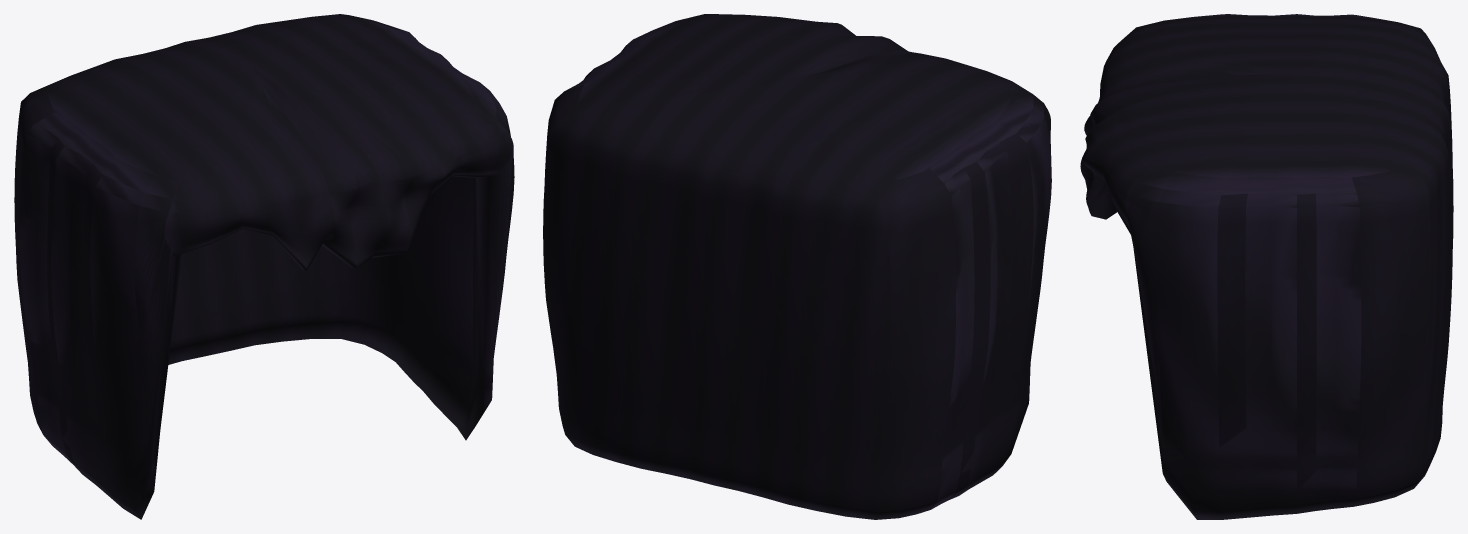
File: DemonHair.glb
3 renders of one model, left to right at view 1: azimuth 30°, elevation 25°; view 2: azimuth 150°, elevation 25°; view 3: azimuth 270°, elevation 25°, orthographic. The views are drawn at different scales.
Parts seen in each view (by area): view 1: DemonHair; view 2: DemonHair; view 3: DemonHair.
Part boxes in pixels (x1=…): DemonHair: x1=14, y1=14, x2=514, y2=519; DemonHair: x1=543, y1=14, x2=1051, y2=519; DemonHair: x1=1080, y1=14, x2=1453, y2=519.
Bounding box in the file's own units: 1.15 × 1.02 × 0.9295.
Materials: 1 (1 with a texture image).
